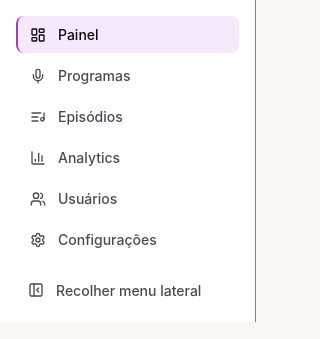
Test: AdminSidebar › colapso › começa expandida e alterna com o gatilho
Step 1. Click the button "Recolher menu lateral" → (128, 290), box 16,274 -> 239,306
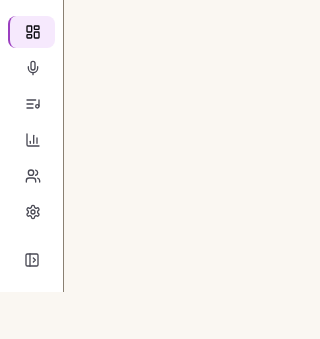
Result: the button named "Expandir menu lateral" is collapsed at 8,244 -> 55,276
